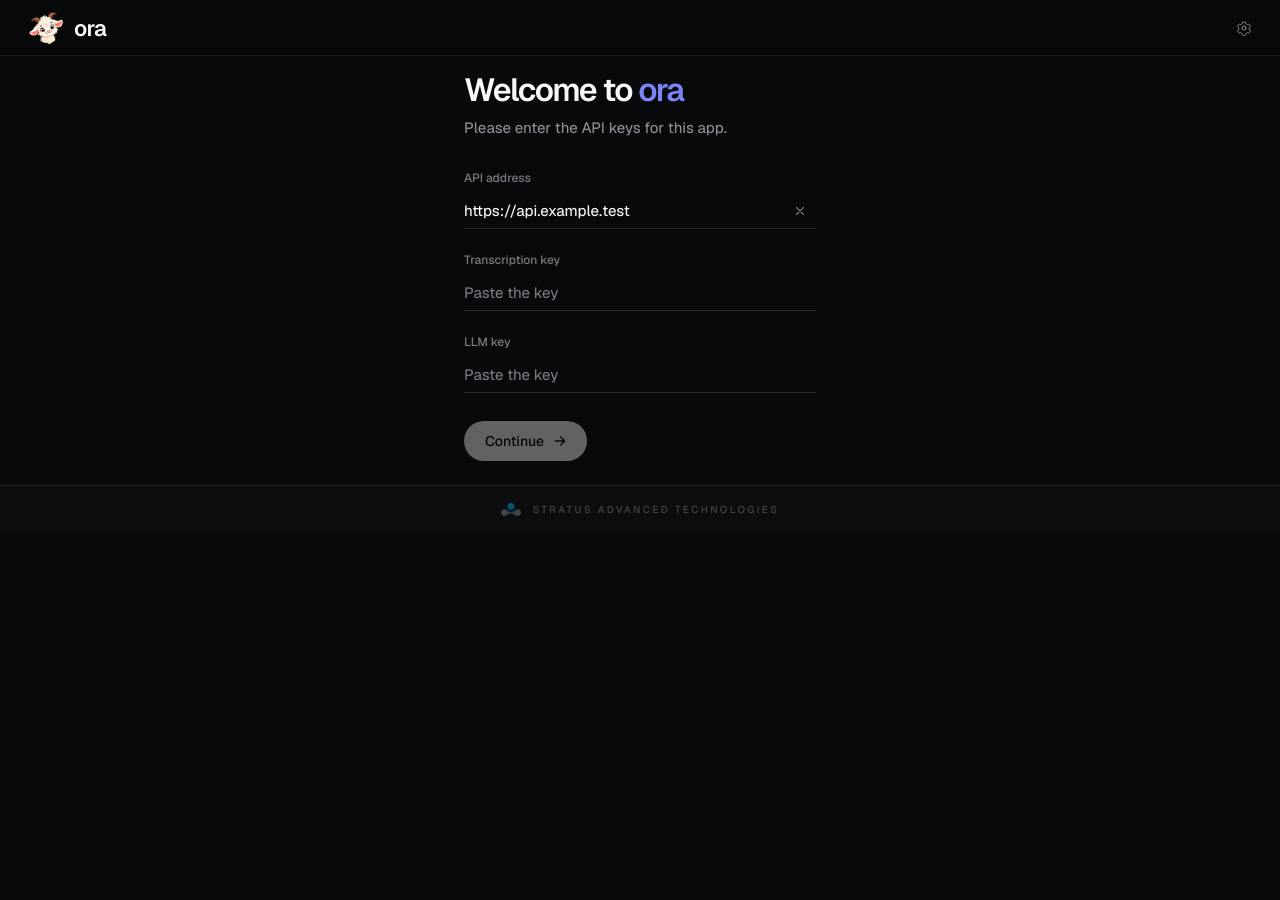
App › opens the settings over a pending step and returns home from the brand
Expected: the element with class "step" is shown, [0, 0, 1279, 533]
Click the button named "Settings": (1244, 28) [1226, 10, 1262, 46]
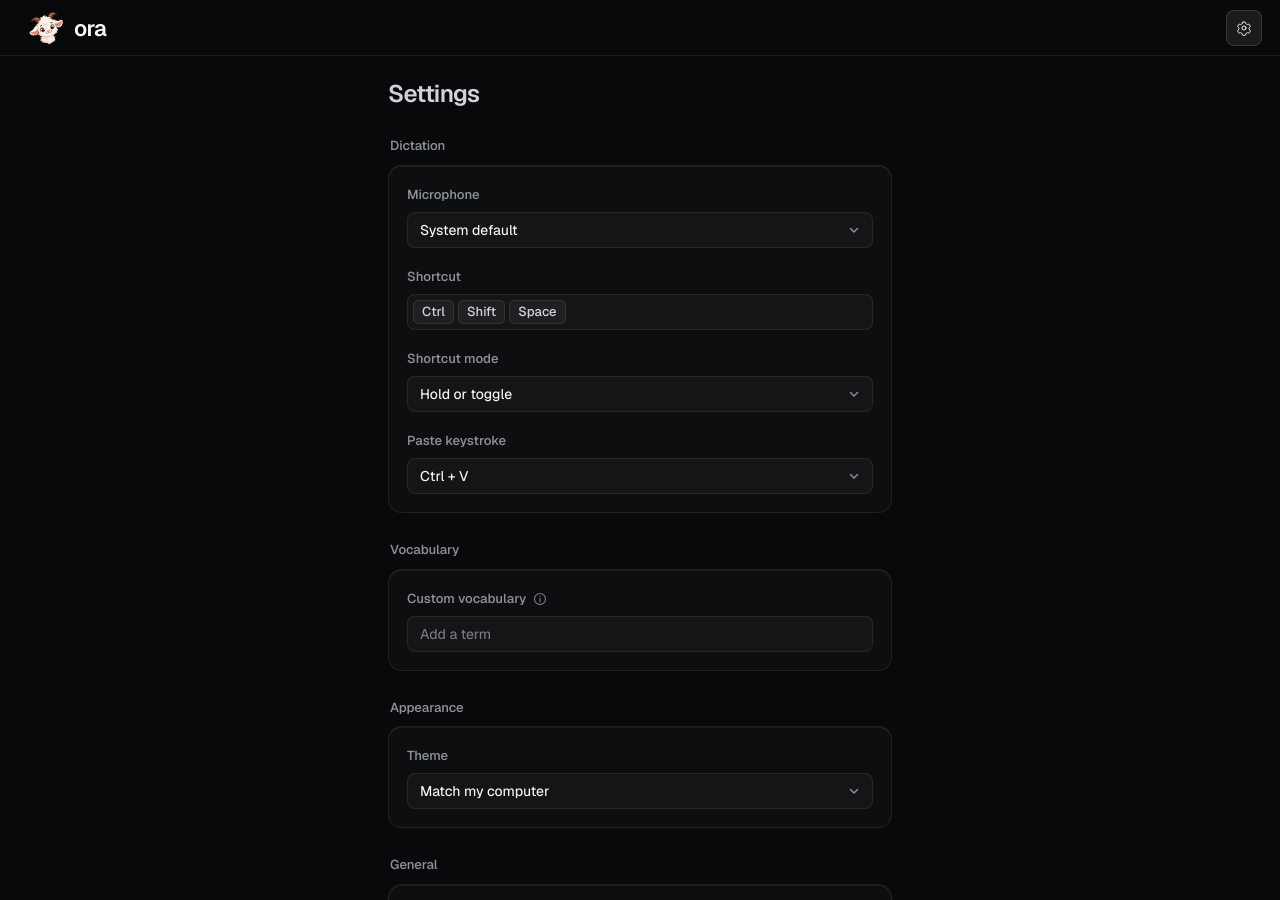
Now the button named "Settings" is pressed, box [1226, 10, 1262, 46]
Click the button with class "brand": (67, 28) [28, 10, 106, 46]
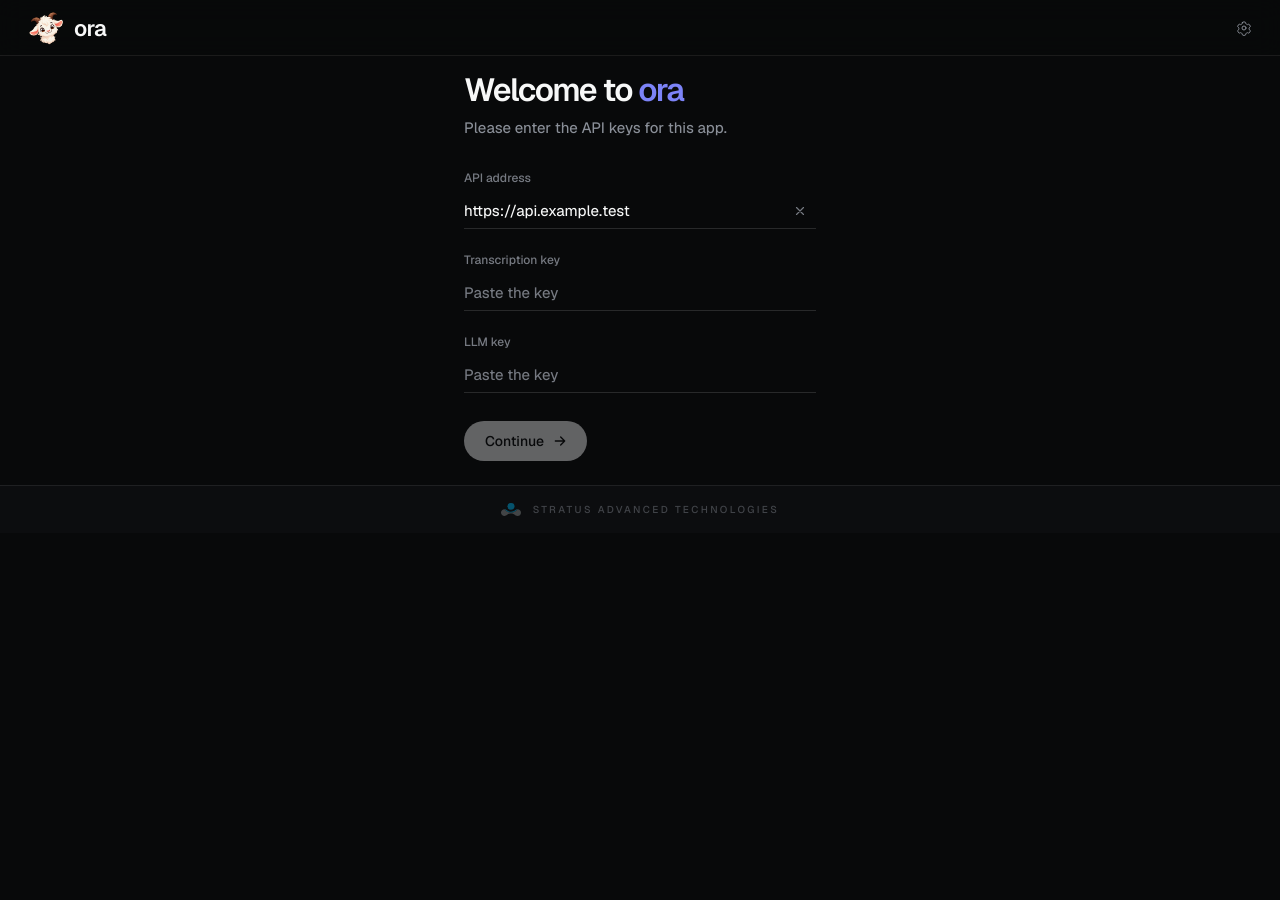
Now the element with class "step" is shown, box [0, 0, 1279, 533]
